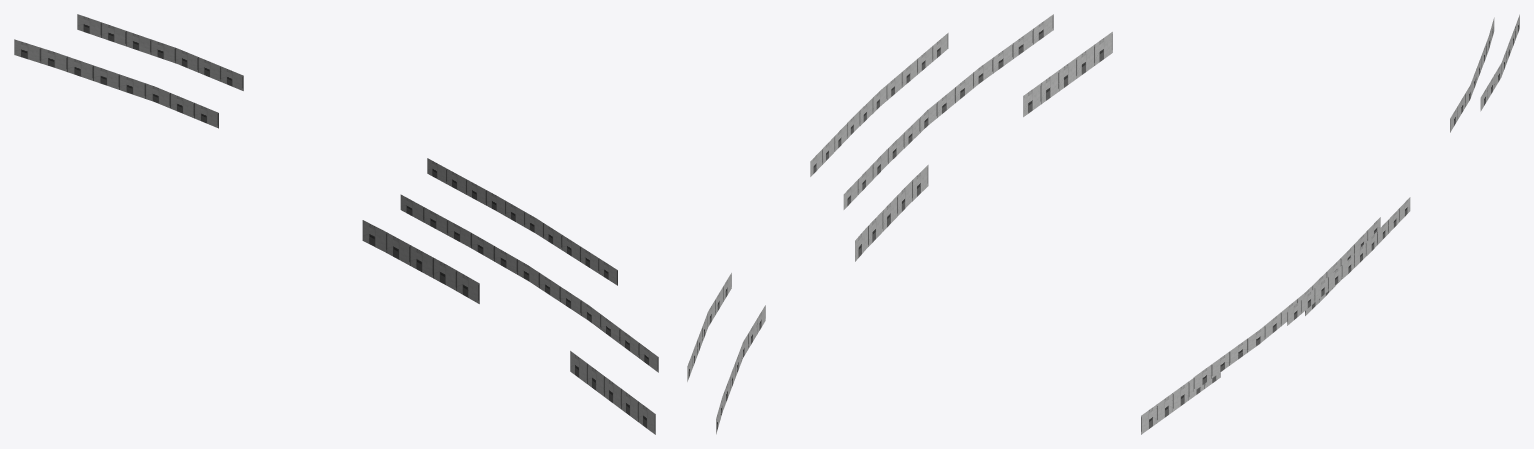
File: PRS_VISTABUILDINGwindow.FBX
The picture shows the model from 3 angles, left to right: view 1: azimuth 30°, elevation 25°; view 2: azimuth 150°, elevation 25°; view 3: azimuth 330°, elevation 25°; orthographic projection. The views are drawn at different scales.
Parts seen in each view (by area): view 1: PRS_VISTABUILDINGwindow; view 2: PRS_VISTABUILDINGwindow; view 3: PRS_VISTABUILDINGwindow.
Part boxes in pixels (<box>): PRS_VISTABUILDINGwindow: <box>14,14,658,434</box>; PRS_VISTABUILDINGwindow: <box>687,14,1112,434</box>; PRS_VISTABUILDINGwindow: <box>1141,14,1519,434</box>.
Bounding box in the file's own units: 28.91 × 11.36 × 137.
